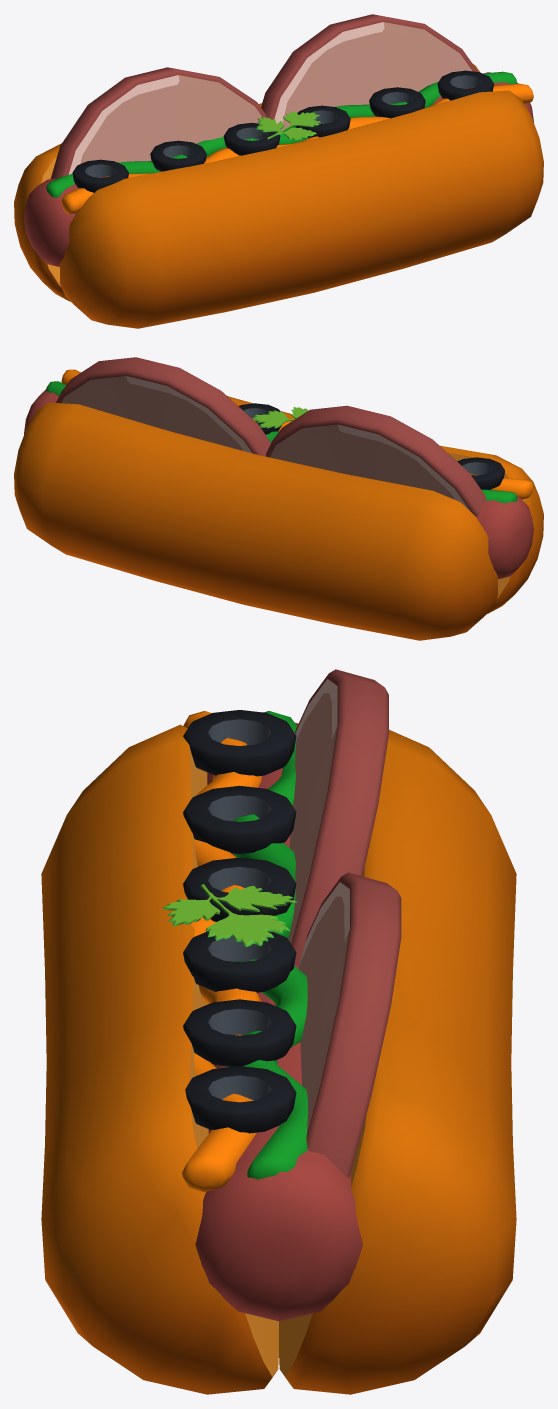
Rendered from HotDog_bun_04.fbx.
The picture shows the model from 3 angles, top to bottom: view 1: azimuth 30°, elevation 25°; view 2: azimuth 150°, elevation 25°; view 3: azimuth 270°, elevation 25°; orthographic projection. The views are drawn at different scales.
Visible parts, largest first — view 1: HotDog_bun_04; view 2: HotDog_bun_04; view 3: HotDog_bun_04.
Part boxes in pixels (bbox=[...]): HotDog_bun_04: bbox=[14, 14, 543, 328]; HotDog_bun_04: bbox=[14, 357, 543, 640]; HotDog_bun_04: bbox=[41, 669, 516, 1394].
Size of the model in its own units: 160 by 67.45 by 67.28.
